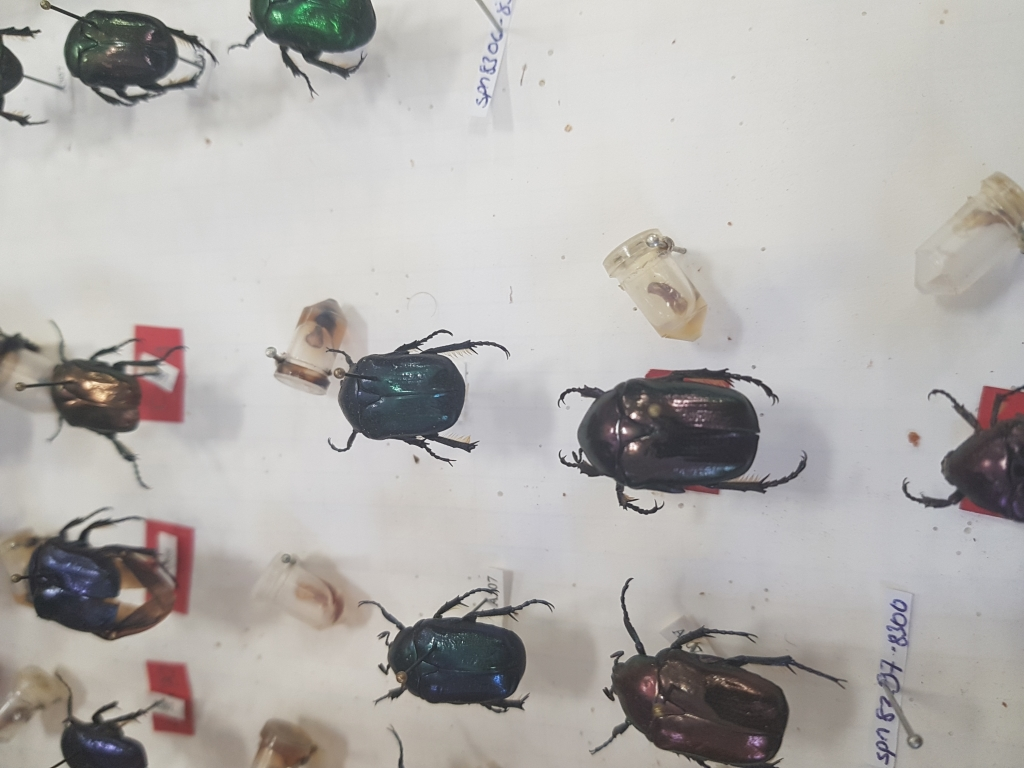Protaetia_besucheti: (566, 568, 851, 768), (353, 578, 567, 739)
